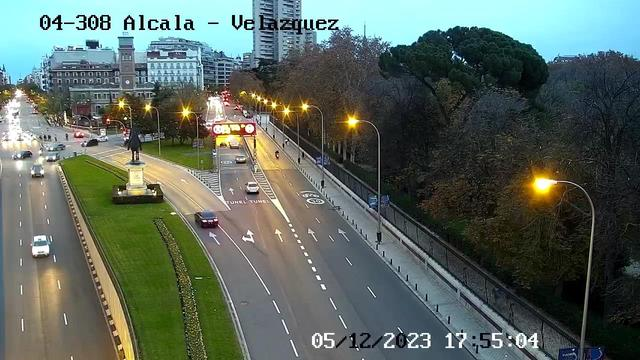car: (30, 235, 51, 258), (194, 211, 219, 228)
